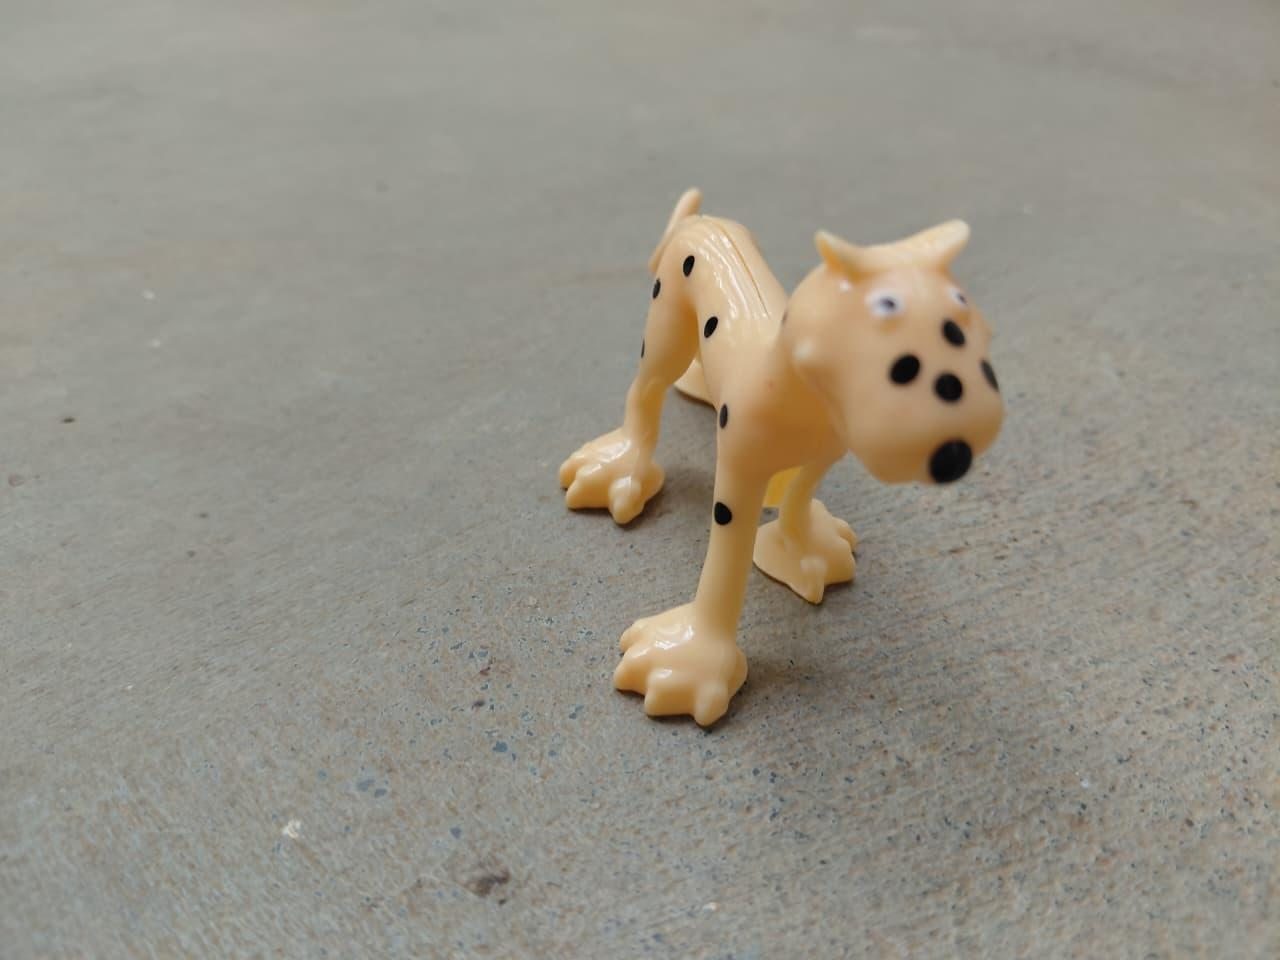cheetah: (552, 154, 1022, 740)
